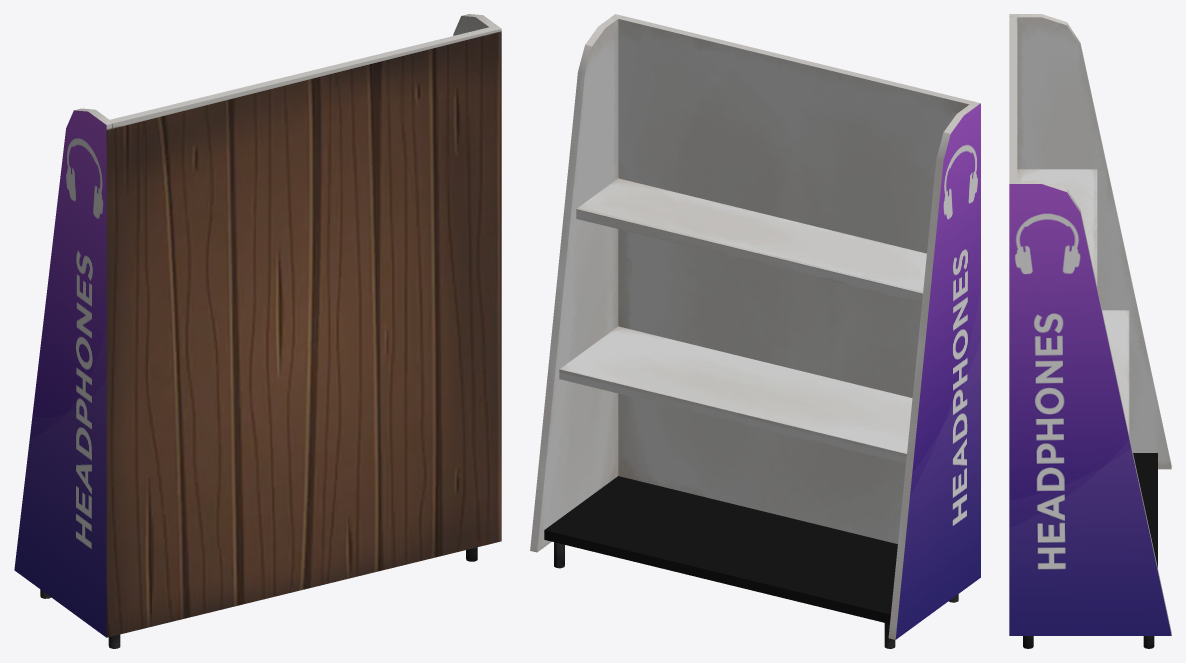
File: Self_3.fbx
The picture shows the model from 3 angles, left to right: view 1: azimuth 30°, elevation 25°; view 2: azimuth 150°, elevation 25°; view 3: azimuth 270°, elevation 25°; orthographic projection. The views are drawn at different scales.
Visible parts, largest first — view 1: Shelf_3; view 2: Shelf_3; view 3: Shelf_3.
Part boxes in pixels (box(x1,y1,x2,y2)): Shelf_3: box(14, 14, 501, 648); Shelf_3: box(530, 14, 980, 648); Shelf_3: box(1009, 14, 1171, 648).
Bounding box in the file's own units: 129 × 167 × 52.27.
